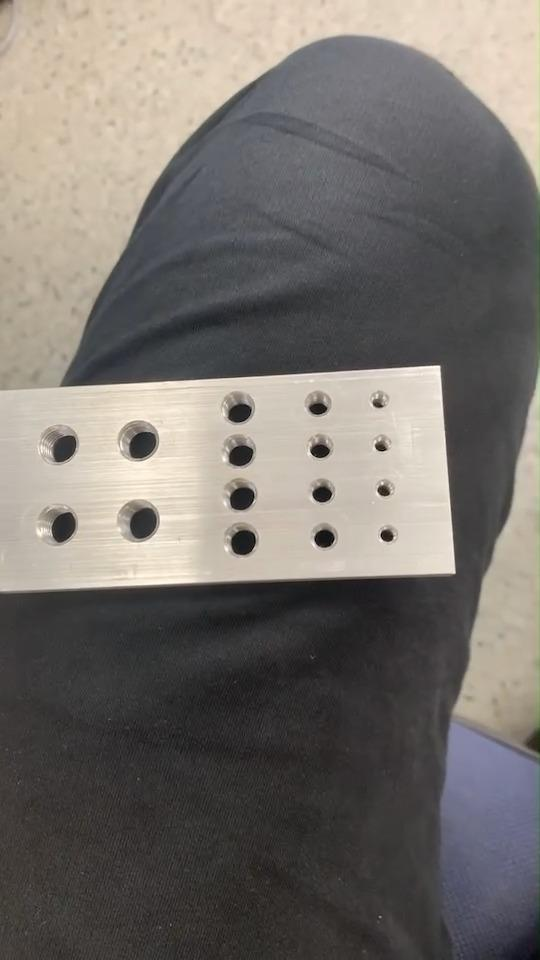hole: (36, 420, 80, 466), (116, 498, 160, 543), (35, 502, 78, 548), (117, 420, 159, 462), (222, 519, 260, 561), (220, 476, 260, 513), (218, 390, 258, 426), (218, 433, 259, 468), (300, 388, 335, 420), (311, 521, 342, 551), (305, 479, 337, 508), (306, 432, 336, 462), (375, 524, 400, 548), (370, 389, 392, 412), (374, 478, 396, 501), (370, 434, 392, 456)
